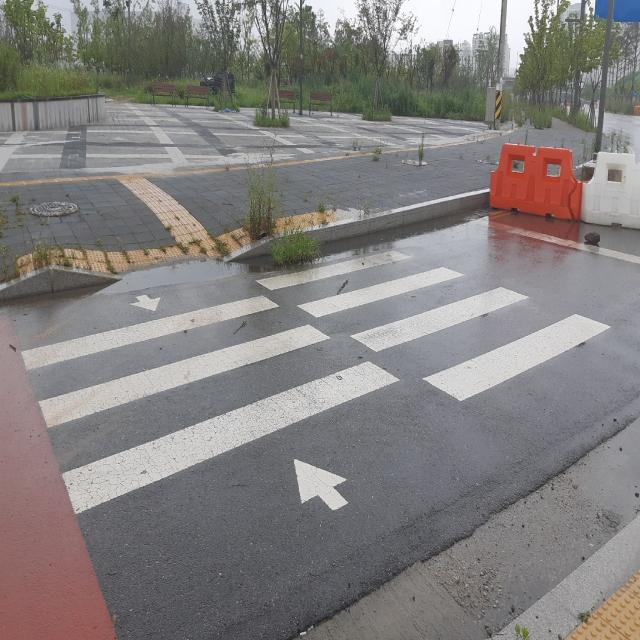횡단보도: (18, 249, 614, 512)
